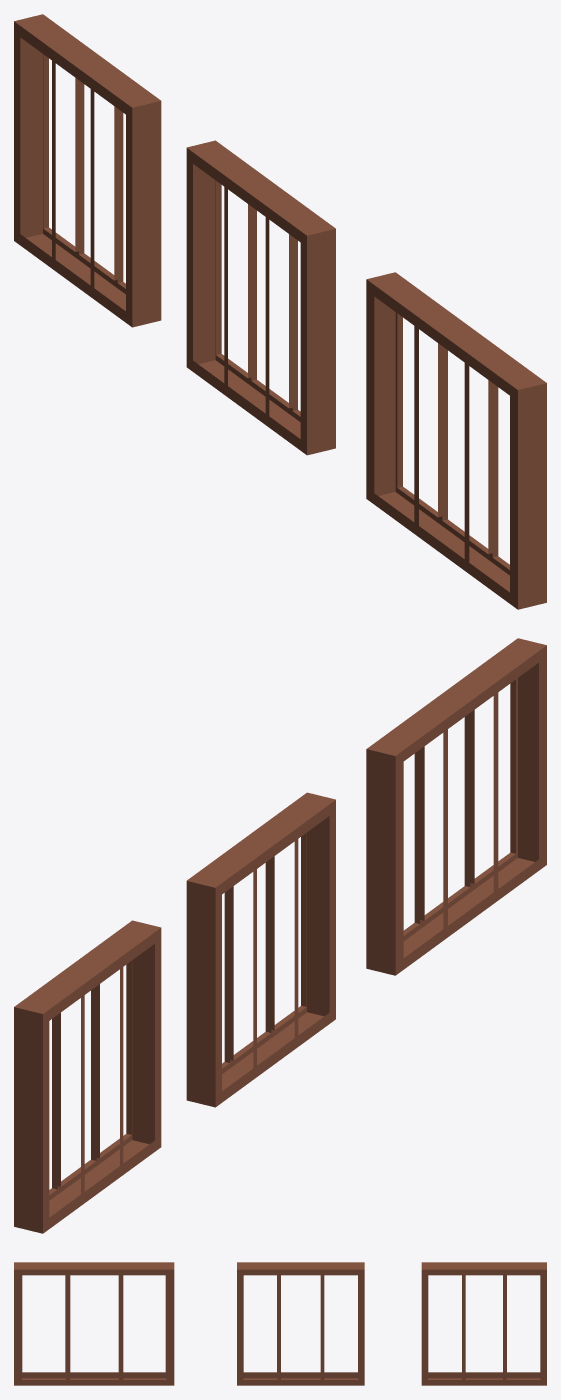
Rendered from WINDOWS.glb.
3 renders of one model, top to bottom at view 1: azimuth 30°, elevation 25°; view 2: azimuth 150°, elevation 25°; view 3: azimuth 270°, elevation 25°, orthographic. The views are drawn at different scales.
Visible parts, largest first — view 1: Cube.051, Cube.047, Cube.046; view 2: Cube.051, Cube.046, Cube.047; view 3: Cube.051, Cube.046, Cube.047.
Part boxes in pixels (x1,y1,x2,y2): Cube.051: [366, 272, 546, 609]; Cube.047: [14, 14, 161, 327]; Cube.046: [186, 140, 335, 455]; Cube.051: [366, 638, 546, 975]; Cube.046: [186, 792, 335, 1107]; Cube.047: [14, 920, 161, 1233]; Cube.051: [14, 1262, 174, 1385]; Cube.046: [237, 1262, 364, 1385]; Cube.047: [421, 1262, 546, 1385].
Bounding box in the file's own units: 20 × 145 × 601.
